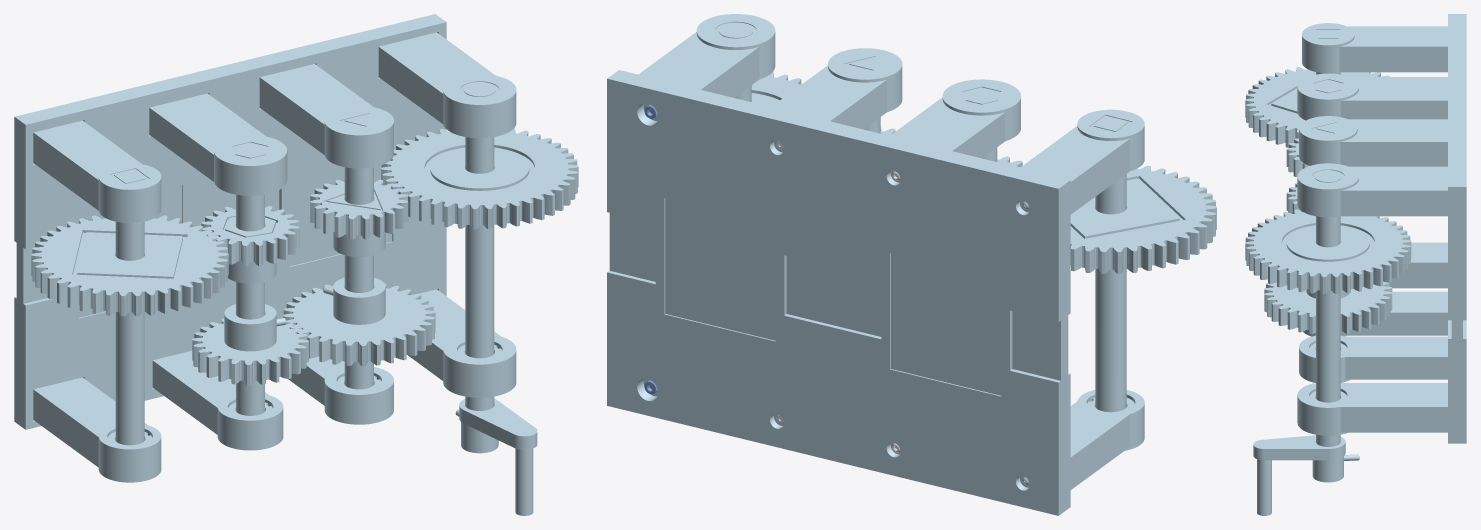
File: GearboxAssemblyFinal.glb
The picture shows the model from 3 angles, left to right: view 1: azimuth 30°, elevation 25°; view 2: azimuth 150°, elevation 25°; view 3: azimuth 270°, elevation 25°; orthographic projection. The views are drawn at different scales.
Parts seen in each view (by area): view 1: Part 1 (×14), Spur gear (42 teeth) (×2), Spur gear (20 teeth) (×2), Spur gear (32 teeth), Spur gear (24 teeth); view 2: Part 1 (×7), Spur gear (42 teeth) (×2); view 3: Part 1 (×11), Spur gear (42 teeth) (×2), Spur gear (32 teeth), Spur gear (20 teeth) (×2).
Boxes of the visible parts, x1,y1,x2,y2 form: Part 1 (×14): (14, 14, 537, 515); Spur gear (42 teeth) (×2): (31, 128, 578, 316); Spur gear (20 teeth) (×2): (201, 179, 408, 283); Spur gear (32 teeth): (283, 277, 435, 366); Spur gear (24 teeth): (192, 304, 308, 385); Part 1 (×7): (607, 14, 1144, 515); Spur gear (42 teeth) (×2): (751, 72, 1216, 273); Part 1 (×11): (1253, 14, 1466, 515); Spur gear (42 teeth) (×2): (1245, 67, 1411, 294); Spur gear (32 teeth): (1264, 281, 1392, 334); Spur gear (20 teeth) (×2): (1286, 138, 1309, 213).
Bounding box in the file's own units: 0.4019 × 0.297 × 0.176.
